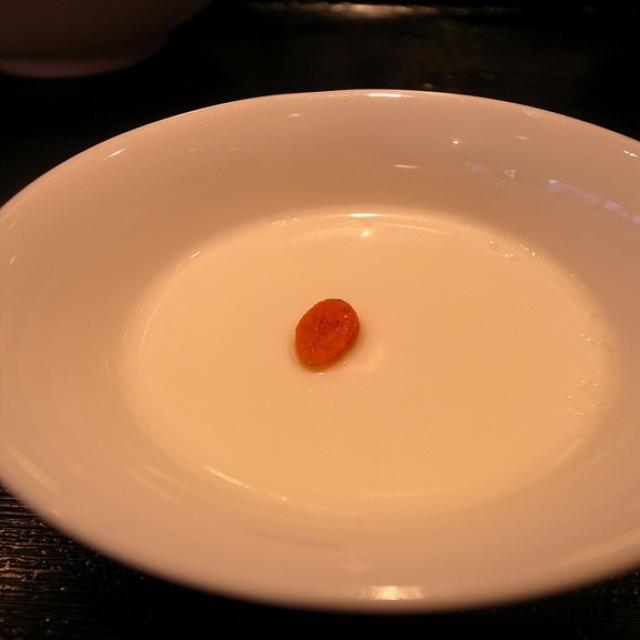汤锅炖物: (478, 32, 637, 496)
